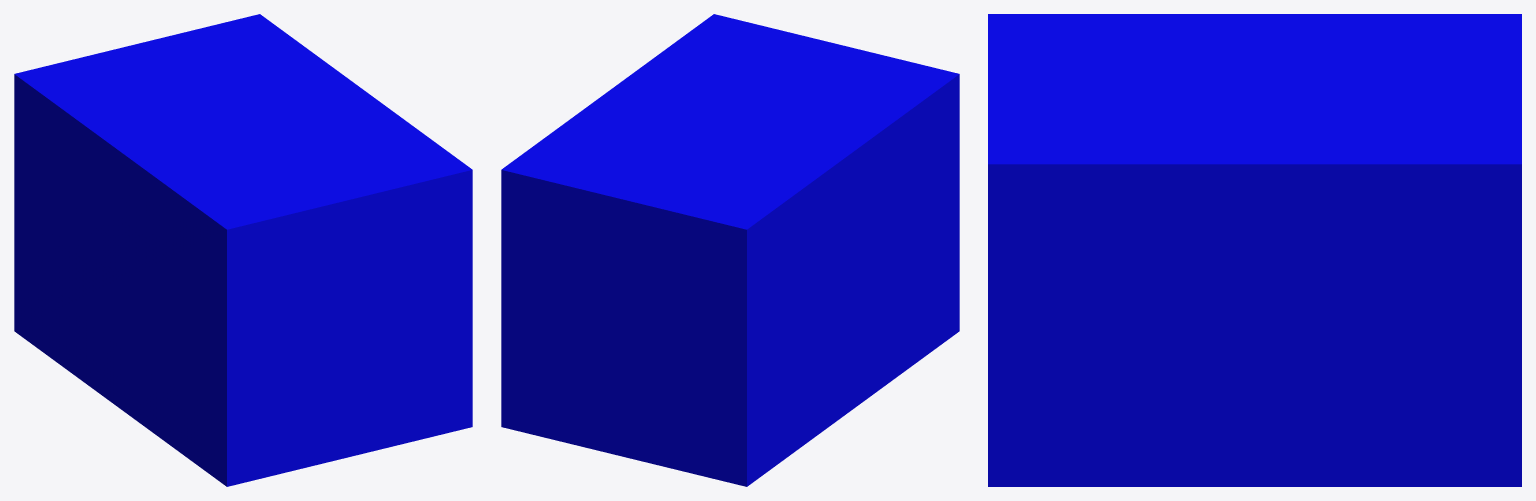
Rendered from trial.glb.
3 views of the same model, side by side, from view 1: azimuth 30°, elevation 25°; view 2: azimuth 150°, elevation 25°; view 3: azimuth 270°, elevation 25° (orthographic). The views are drawn at different scales.
Parts seen in each view (by area): view 1: Envelope; view 2: Envelope; view 3: Envelope.
Boxes of the visible parts, x1,y1,x2,y2 form: Envelope: (14, 14, 472, 486); Envelope: (501, 14, 959, 486); Envelope: (988, 14, 1521, 486).
Size of the model in its own units: 200 by 200 by 300.
